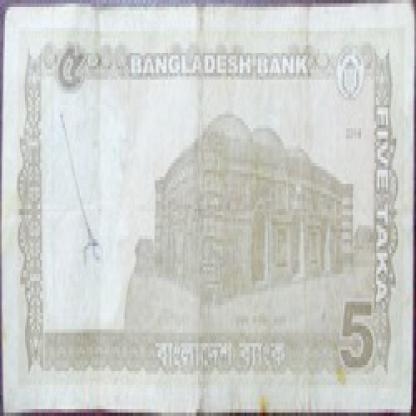Five Taka: (371, 97, 393, 316), (339, 284, 383, 378), (51, 35, 90, 114)
